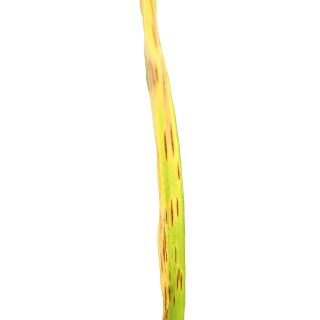Bercak-Cokelat-Sempit: (157, 126, 180, 162), (156, 225, 167, 277), (168, 194, 182, 230), (159, 283, 172, 320), (174, 265, 186, 293), (176, 161, 182, 185), (172, 245, 179, 265)
